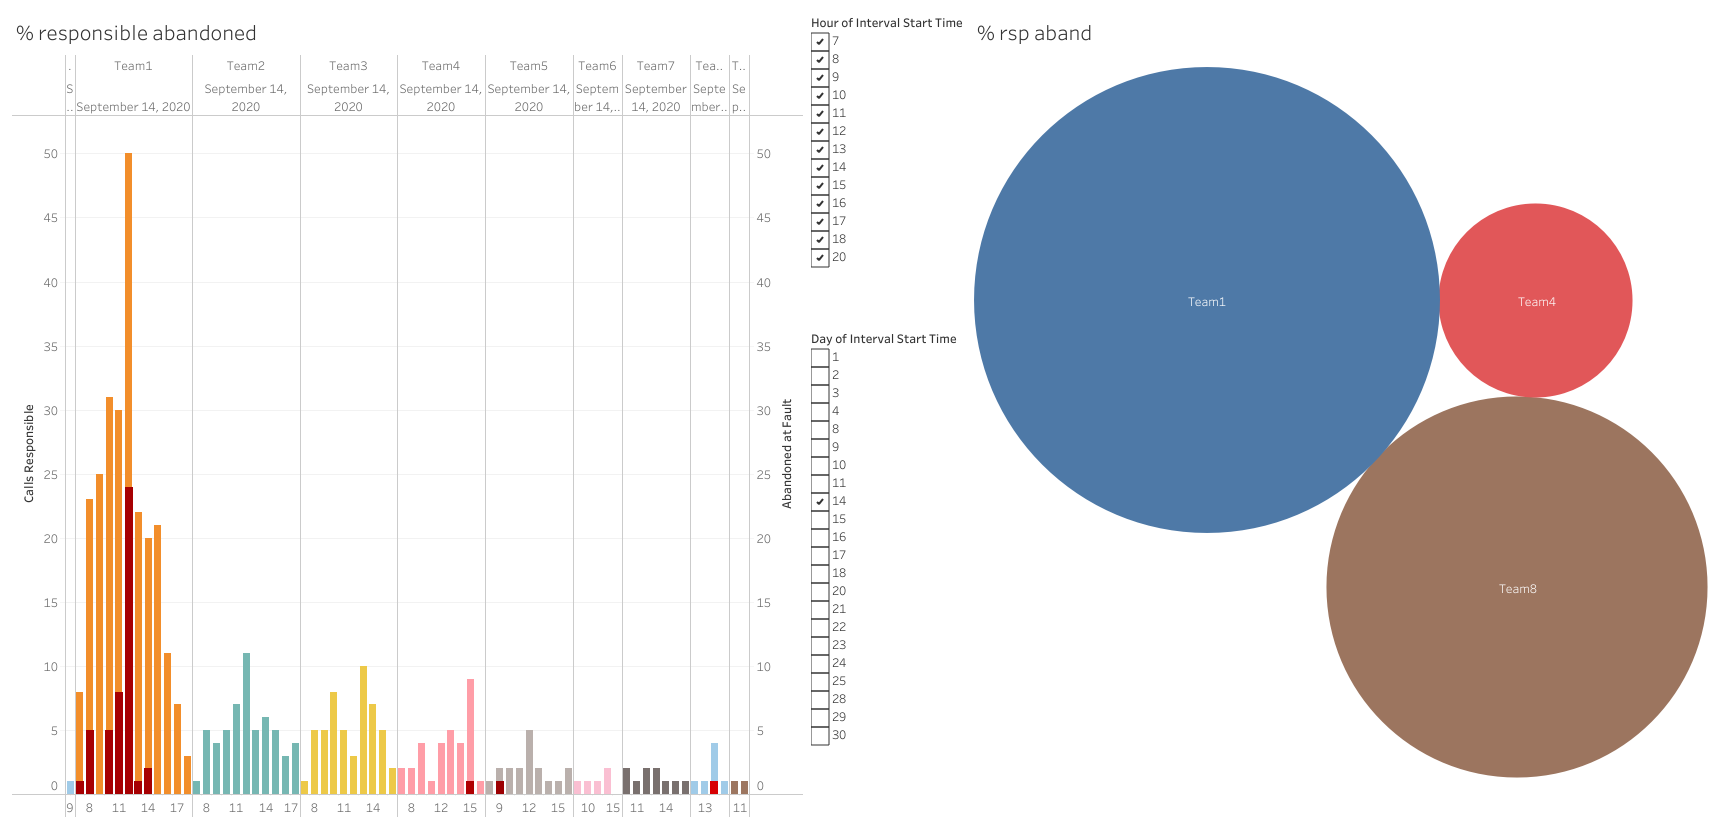

Layout of this report page (visuals, bound fields, positions):
{"tool":"tableau","page":{"name":"abandond_dash","canvas":[1000,1000],"units":"permille","ordinal":0},"visuals":[{"type":"worksheet","box":[0,0,1000,1000]},{"type":"worksheet","param":"horz","box":[4.7,9.3,990.7,981.4]},{"type":"worksheet","box":[4.7,9.3,990.7,981.4]},{"type":"worksheet","title":"% responsible abandoned","mark":"Bar","rows":["Calls_Responsible","Abandoned_at_Fault"],"cols":["Team Name","Interval Start Time","Interval Start Time"],"box":[4.7,9.3,464.5,981.4]},{"type":"worksheet","title":"% responsible abandoned","mark":"Bar","rows":["Calls_Responsible","Abandoned_at_Fault"],"cols":["Team Name","Interval Start Time","Interval Start Time"],"param":"[federated.1v2rnis0nskxsx1e1fsvb1073dxs].[hr:Interval Start Time:ok]","box":[469.2,9.3,94.2,381.4]},{"type":"worksheet","title":"% rsp aband","mark":"Circle","box":[563.4,9.3,432,981.4]},{"type":"worksheet","title":"% responsible abandoned","mark":"Bar","rows":["Calls_Responsible","Abandoned_at_Fault"],"cols":["Team Name","Interval Start Time","Interval Start Time"],"param":"[federated.1v2rnis0nskxsx1e1fsvb1073dxs].[dy:Interval Start Time:ok]","box":[469.2,390.7,94.2,600]}]}

Visuals, with their boxes on the dashboard's canvas, which has no fixed pixel size, in thousandths of its width and height (x1, y1, x2, y2). These are canvas units, not pixel positions in the 1719x828 screenshot, which may show the page scaled, cropped or inside an application window:
worksheet: rect(0, 0, 1000, 1000)
worksheet: rect(5, 9, 995, 991)
worksheet: rect(5, 9, 995, 991)
"% responsible abandoned" worksheet (Bar marks): rect(5, 9, 469, 991)
"% responsible abandoned" worksheet (Bar marks): rect(469, 9, 563, 391)
"% rsp aband" worksheet (Circle marks): rect(563, 9, 995, 991)
"% responsible abandoned" worksheet (Bar marks): rect(469, 391, 563, 991)
